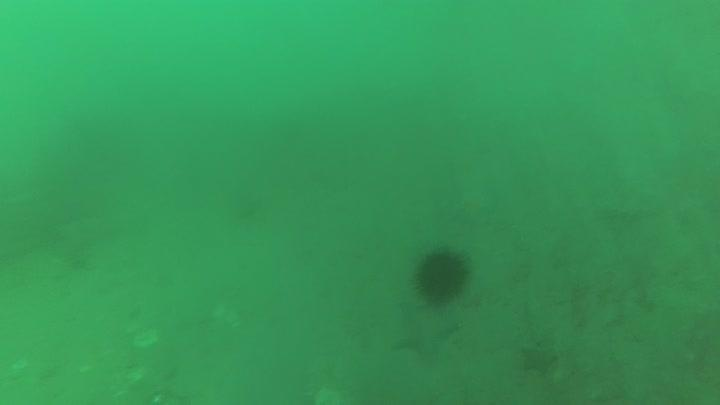echinus: (408, 242, 474, 307)
starfish: (388, 300, 462, 363), (517, 340, 561, 379)
